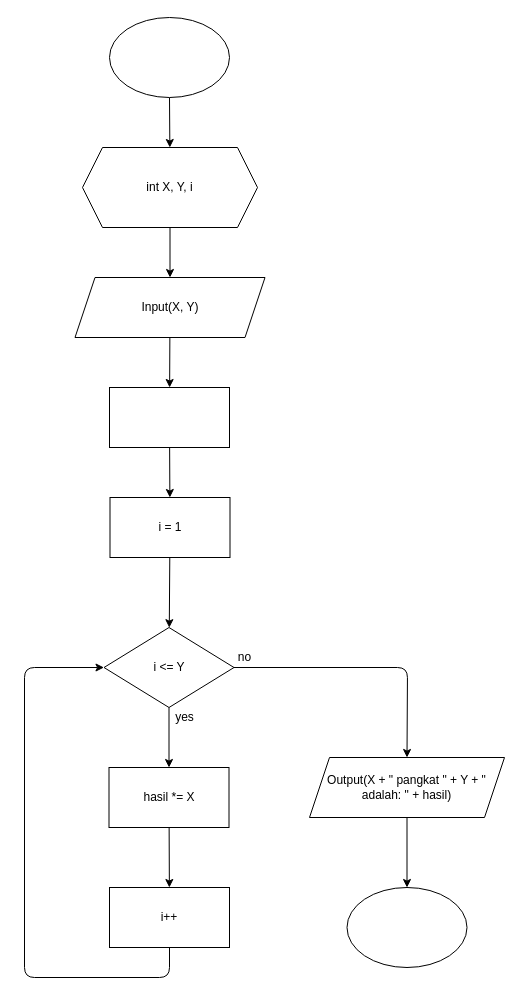
This 522x1003 diagram has some shape labels left out. Here are the shapes that lost their labels. From the top down, the centre of each, then its label:
(169,57): Mulai
(169,417): hasil = 1
(406,927): Selesai
